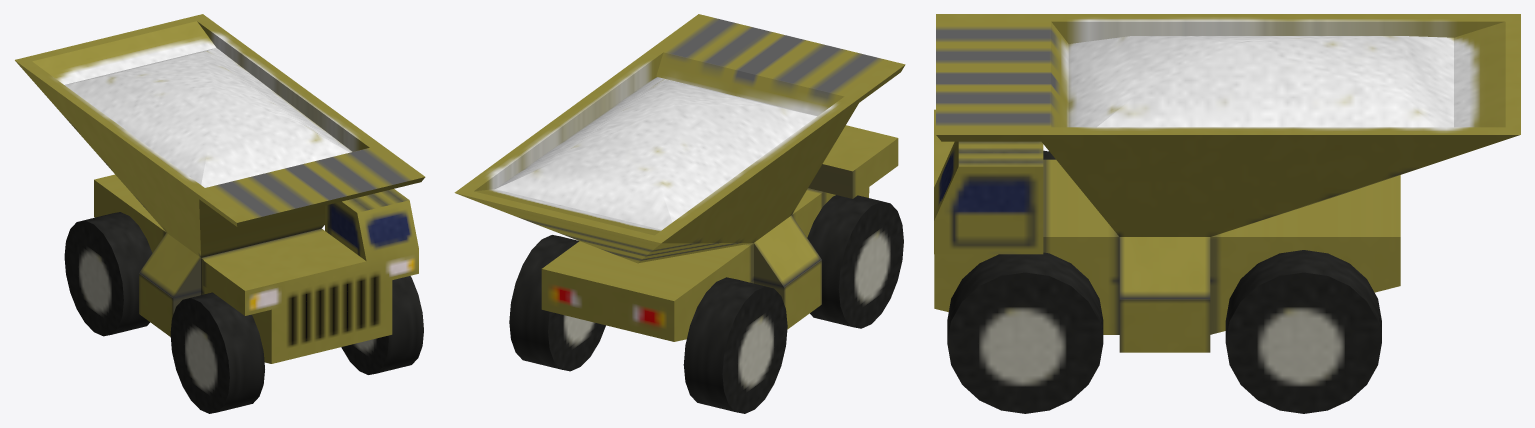
File: saltTruck.fbx
The picture shows the model from 3 angles, left to right: view 1: azimuth 30°, elevation 25°; view 2: azimuth 150°, elevation 25°; view 3: azimuth 270°, elevation 25°; orthographic projection. The views are drawn at different scales.
Parts seen in each view (by area): view 1: saltTruck; view 2: saltTruck; view 3: saltTruck.
Part boxes in pixels (x1,y1,x2,y2): saltTruck: [15, 14, 425, 413]; saltTruck: [454, 14, 905, 413]; saltTruck: [934, 14, 1520, 413].
Size of the model in its own units: 0.5209 by 0.6023 by 1.04.
